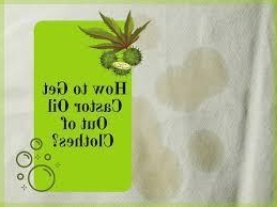oil: (152, 45, 238, 113), (134, 98, 179, 197), (179, 128, 224, 174)
